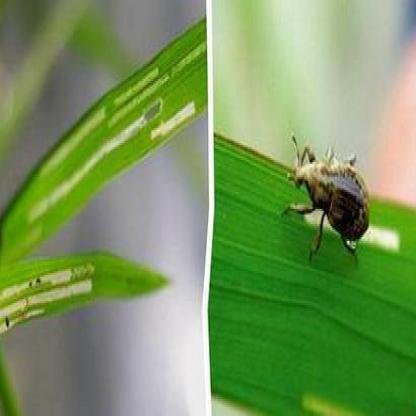rice-bug: (286, 136, 370, 255)
